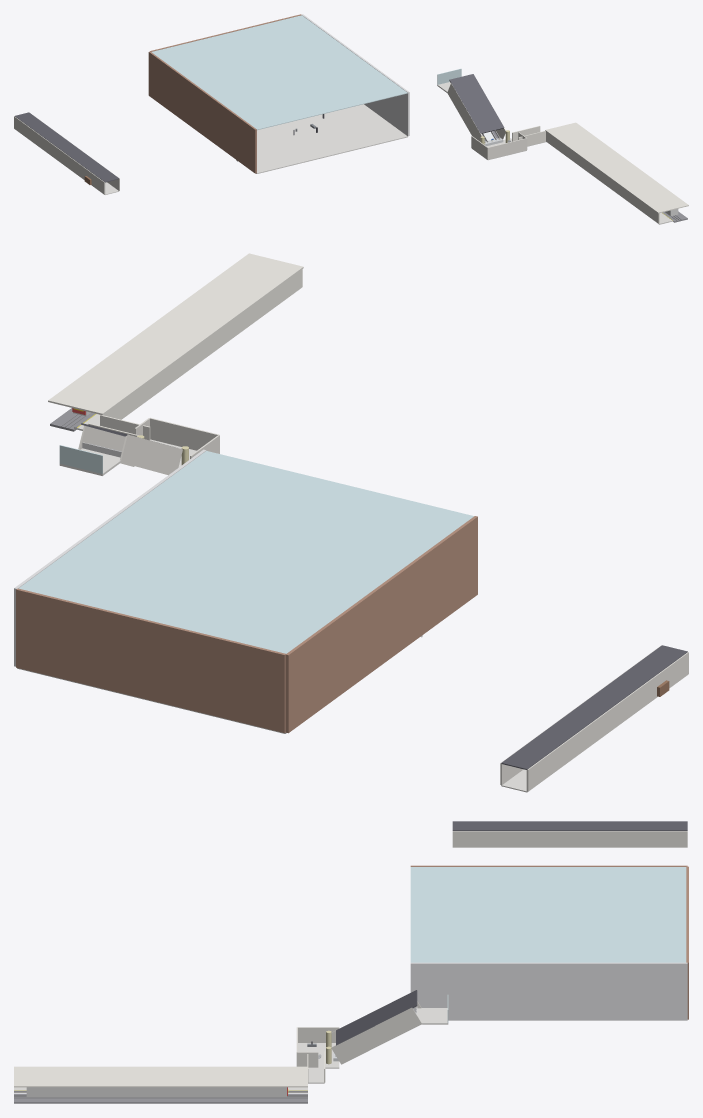
3 views of the same model, one above another, from view 1: azimuth 30°, elevation 25°; view 2: azimuth 150°, elevation 25°; view 3: azimuth 270°, elevation 25° (orthographic). The views are drawn at different scales.
Parts seen in each view (by area): view 1: S02_roof_glass, S02_floor, S02_wall_west, S04_tunnel_vault, S03_ceiling, S01_ceiling, S02_wall_east, S04_platform_wall, S01_wall_L, S03_wall_left, S05_wall_back; view 2: S02_roof_glass, S02_wall_north, S02_wall_west, S04_tunnel_vault, S01_ceiling, S01_wall_L, S04_platform_wall, S03_wall_left, S05_wall_back, S02_wall_east, S03_upper_window; view 3: S02_roof_glass, S02_wall_east, S04_tunnel_vault, S01_wall_R, V01_root, S01_ceiling, S04_track_bed, S03_wall_right, S03_ceiling, S04_rail_right, S02_wall_west, S05_wall_left (+2 smaller).
Boxes of the visible parts, x1,y1,x2,y2 form: S02_roof_glass: (151,15,407,130); S02_floor: (256,104,407,173); S02_wall_west: (148,51,256,173); S04_tunnel_vault: (545,122,688,213); S03_ceiling: (449,74,504,133); S01_ceiling: (15,112,119,182); S02_wall_east: (302,14,409,136); S04_platform_wall: (546,131,659,223); S01_wall_L: (14,116,105,194); S03_wall_left: (447,83,482,141); S05_wall_back: (487,138,527,159); S02_roof_glass: (18,451,473,653); S02_wall_north: (16,588,285,732); S02_wall_west: (285,516,477,733); S04_tunnel_vault: (48,253,303,415); S01_ceiling: (501,645,687,769); S01_wall_L: (526,652,688,791); S04_platform_wall: (100,269,302,419); S03_wall_left: (120,434,182,475); S05_wall_back: (150,417,219,450); S02_wall_east: (14,449,206,666); S03_upper_window: (59,445,102,473); S02_roof_glass: (410,867,686,962); S02_wall_east: (410,962,687,1020); S04_tunnel_vault: (14,1066,307,1087); S01_wall_R: (452,831,687,847); V01_root: (26,1087,286,1097); S01_ceiling: (452,821,687,830); S04_track_bed: (14,1093,307,1103); S03_wall_right: (331,1007,421,1064); S03_ceiling: (336,990,417,1045); S04_rail_right: (14,1097,307,1098); S02_wall_west: (410,865,687,866); S05_wall_left: (298,1027,339,1042).
Bounding box in the file's own units: 149 × 17.74 × 161.
